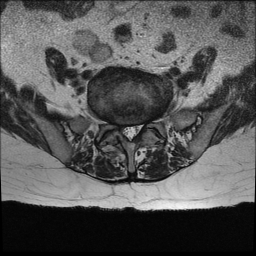CCS_stenosis: (126, 118, 134, 146)
LFS_severe_stenosis: (142, 116, 150, 135)
LLS_stenosis: (134, 119, 142, 139)
RFS_severe_stenosis: (112, 116, 120, 136)
RLS_stenosis: (119, 119, 126, 142)
